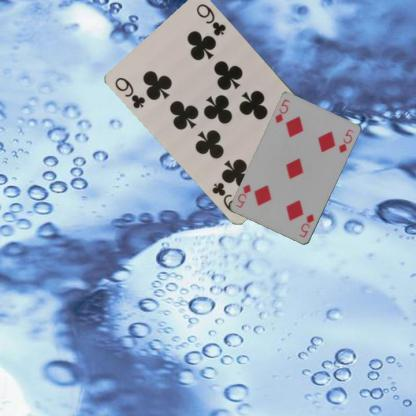5d: (272, 96, 292, 125), (297, 211, 316, 238)
9c: (113, 74, 147, 110)
